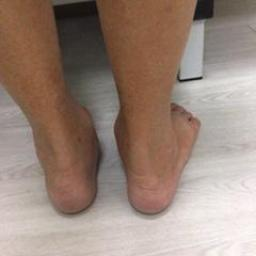Back View -Both Feet-: (7, 82, 204, 219)
